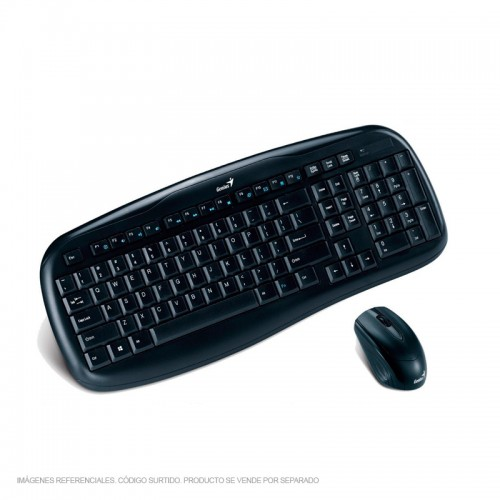Teclado: (35, 125, 453, 393)
